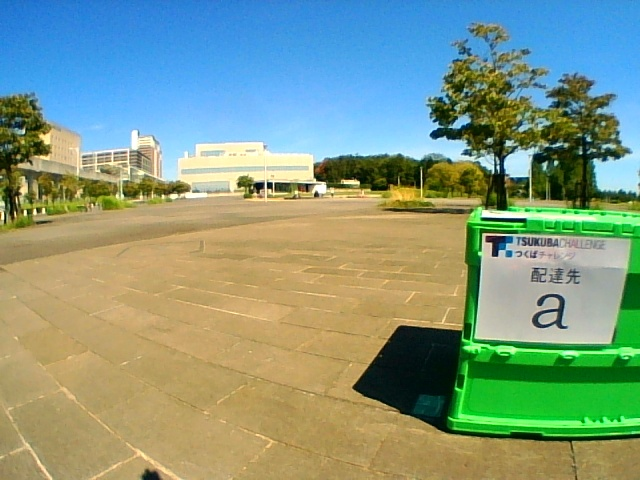green_box: (444, 205, 640, 436)
tag_a: (487, 238, 613, 338)
